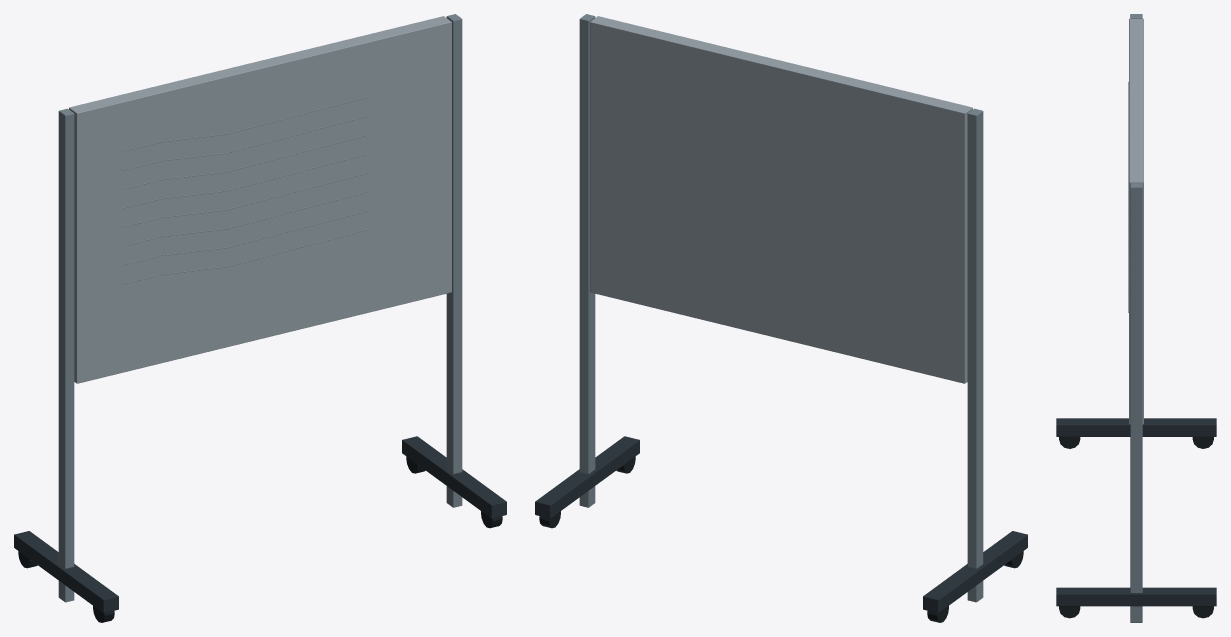
File: SM_Lab_Whiteboard.fbx
3 renders of one model, left to right at view 1: azimuth 30°, elevation 25°; view 2: azimuth 150°, elevation 25°; view 3: azimuth 270°, elevation 25°, orthographic. The views are drawn at different scales.
Visible parts, largest first — view 1: SM_Lab_Whiteboard; view 2: SM_Lab_Whiteboard; view 3: SM_Lab_Whiteboard.
Part boxes in pixels (x1,y1,x2,y2): SM_Lab_Whiteboard: (14, 14, 506, 622); SM_Lab_Whiteboard: (535, 14, 1027, 622); SM_Lab_Whiteboard: (1056, 14, 1216, 622).
Size of the model in its own units: 156 by 60 by 180.
